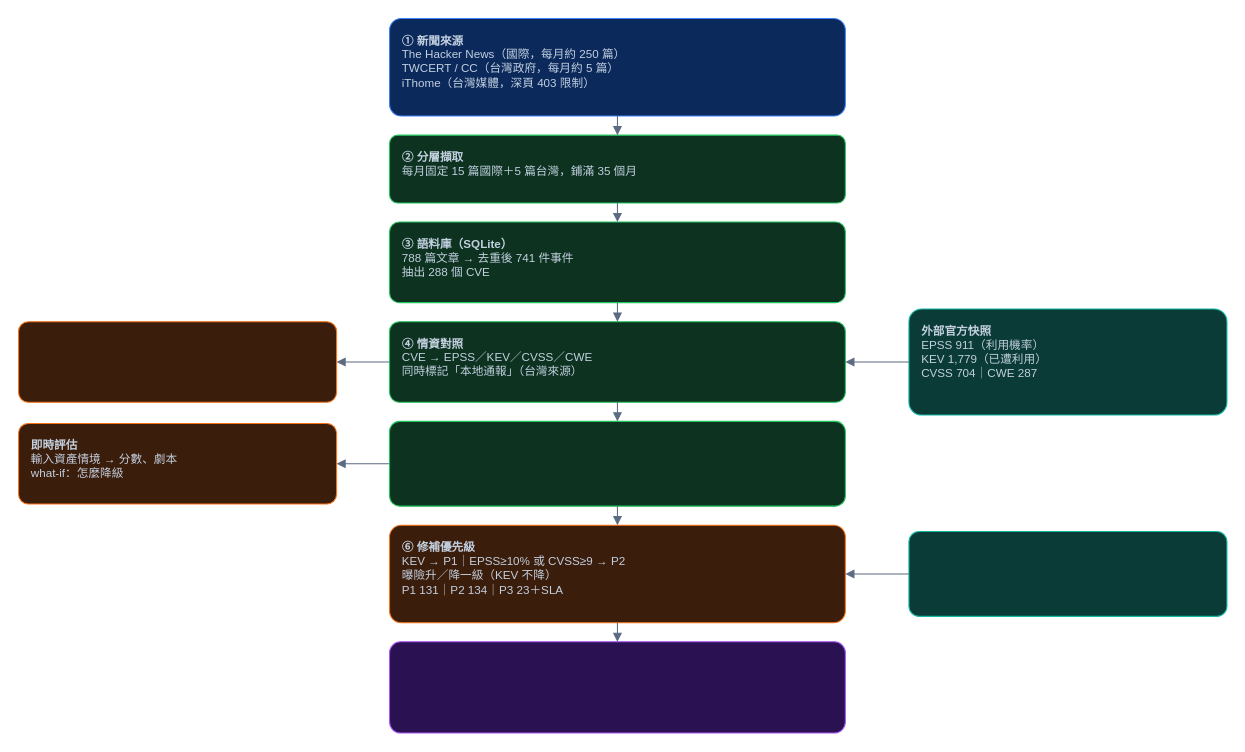
Image size: 1245x752. Some labels were removed from this diagram. The box of each missing label's shape, as (x1, y1, x2, y2) in pixels:
⑤ 分類 ＋ 評分 規則分類 4 類（每篇附命中規則） 加權評分 50／30／12／8 → 0–100 分: (388, 420, 845, 506)
⑦ API ＋ 儀表板 FastAPI /api/v1（8 個端點） 4 分頁：總覽／修補／評估／情資: (388, 641, 845, 733)
企業資產清單 14 台示範資產 判斷是否對外曝險: (908, 531, 1227, 616)
覆蓋缺口 KEV 窗內 711 筆 語料只涵蓋 80 筆（11%）: (17, 321, 337, 402)
